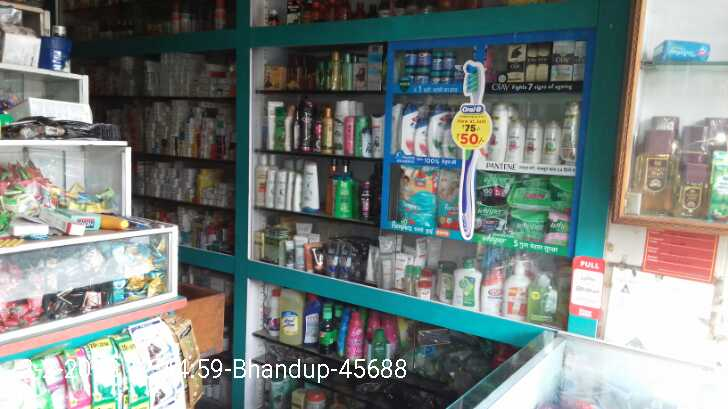beauty: (395, 98, 414, 156), (562, 97, 578, 161), (488, 105, 505, 165), (540, 118, 559, 167), (552, 41, 573, 81), (428, 105, 444, 157), (508, 116, 523, 165), (526, 117, 541, 164), (506, 44, 524, 83), (413, 115, 429, 155), (534, 42, 549, 83), (573, 38, 585, 84), (526, 42, 535, 83)
pharmacy: (393, 164, 434, 230), (510, 205, 547, 243), (509, 175, 552, 205), (439, 170, 459, 229), (475, 167, 508, 201), (468, 206, 507, 233), (402, 67, 417, 85), (417, 61, 429, 83), (417, 46, 431, 64), (404, 48, 416, 66), (443, 50, 453, 67), (433, 51, 441, 70), (442, 69, 452, 82), (432, 70, 441, 83)
